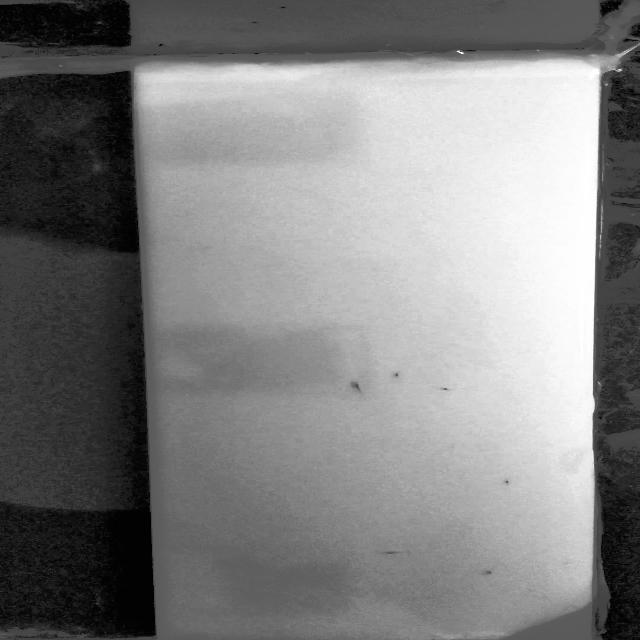shrimp: (345, 374, 371, 394), (432, 382, 462, 398), (377, 548, 411, 560), (475, 564, 501, 579), (497, 475, 516, 488), (391, 370, 409, 381)
